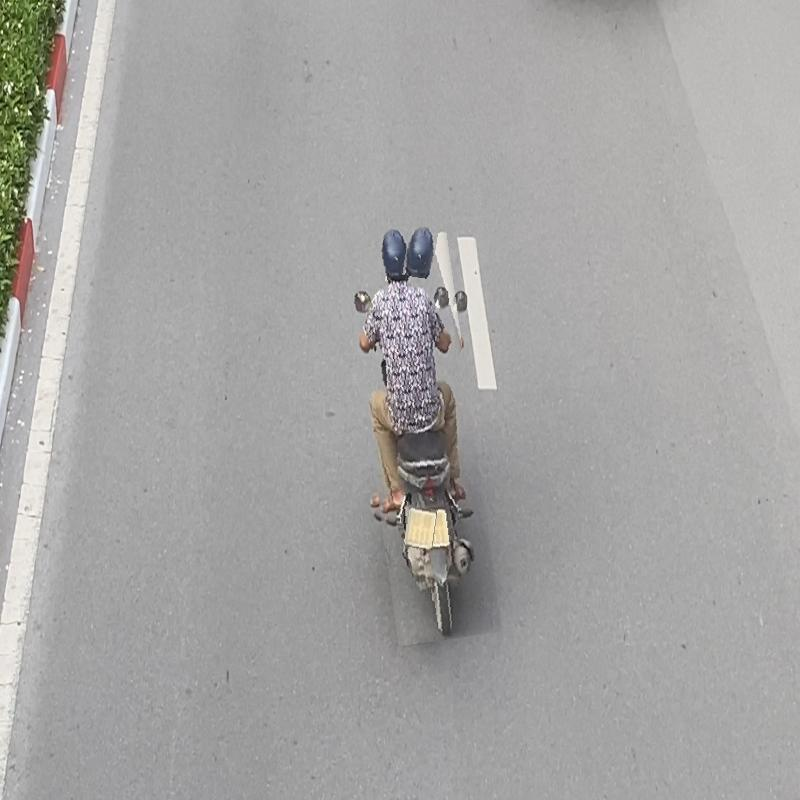helmet: (404, 226, 436, 278)
licenseplate: (405, 508, 436, 550)
motorcyclist: (355, 220, 488, 644)
